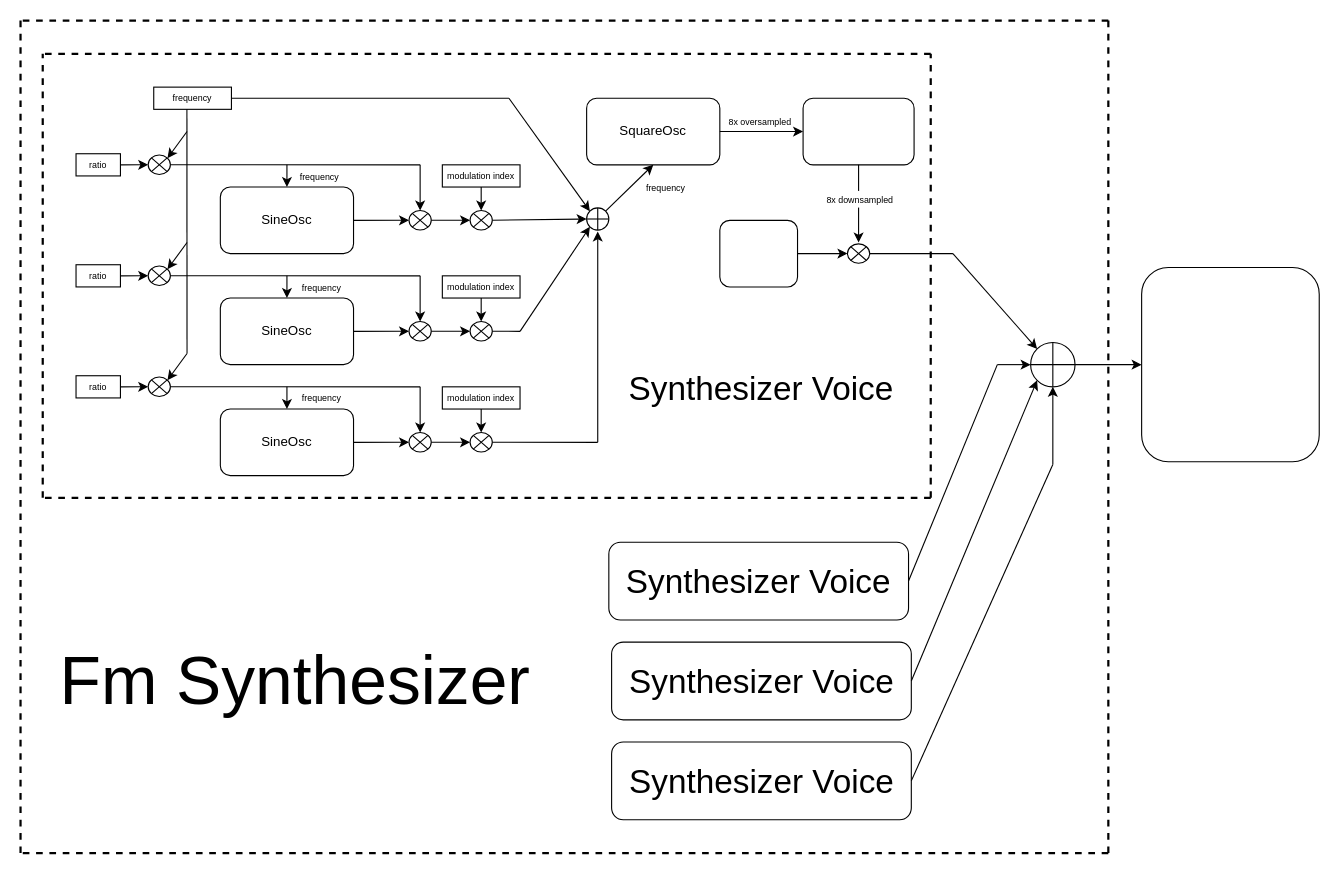
This 1339x874 diagram has some shape labels left out. Here are the shapes that lost their labels. From the top down, the centre of each, then its label:
At (858,131): "LPF (20,000hz)".
At (758,253): "ADSR".
At (1230,364): "Audio Callback Buffer".
